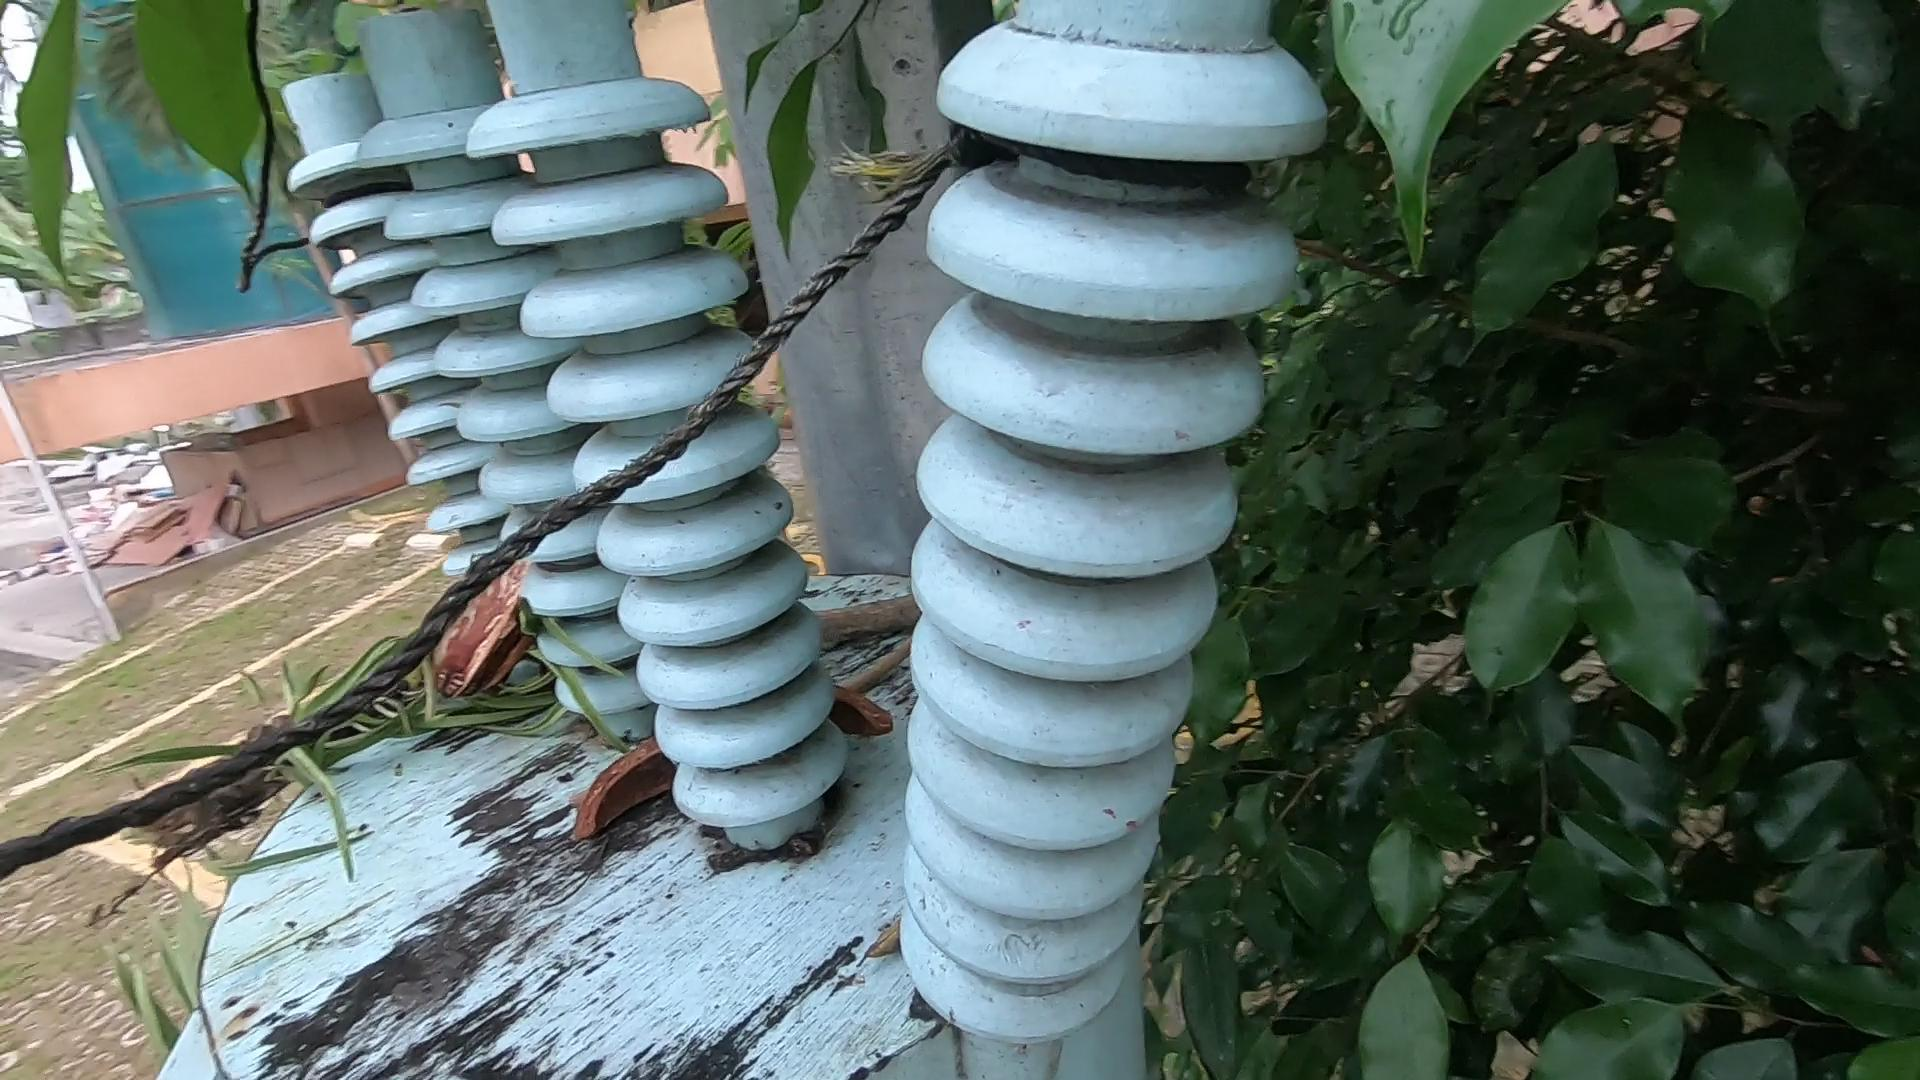branch with leaves: (124, 492, 913, 980)
leaf: (856, 882, 957, 1005)
mahogany fruit: (579, 746, 766, 898), (440, 546, 551, 709)
tree branch: (835, 546, 949, 840)
